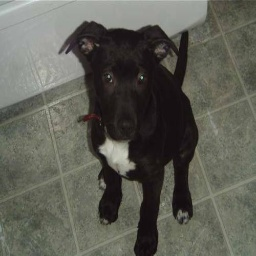dog: (64, 20, 200, 256)
